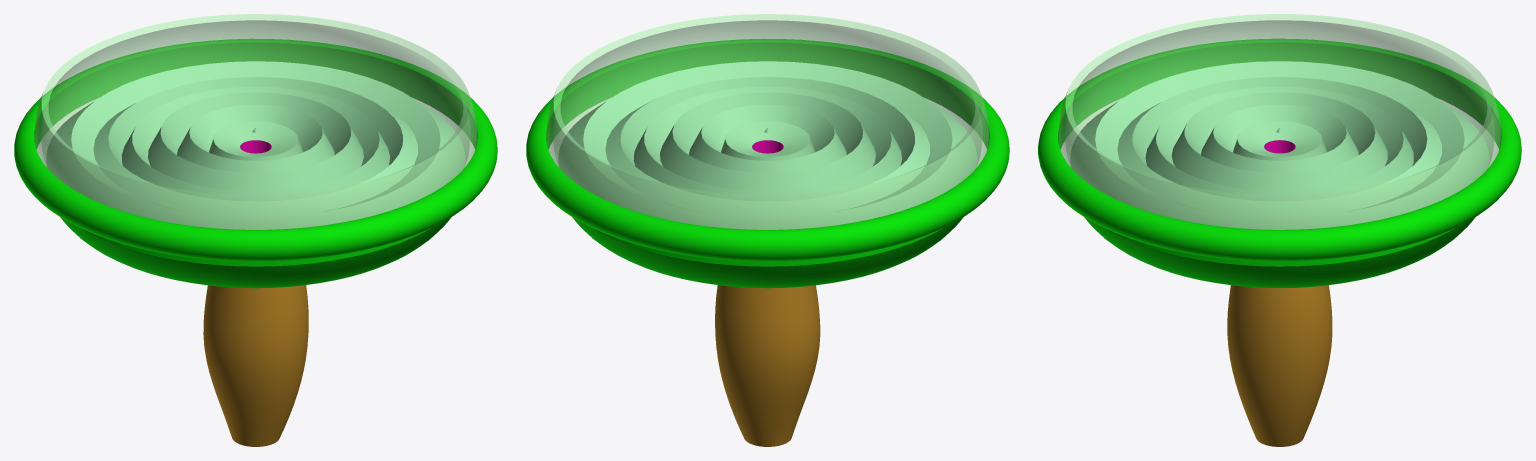
3 views of the same model, side by side, from view 1: azimuth 30°, elevation 25°; view 2: azimuth 150°, elevation 25°; view 3: azimuth 270°, elevation 25° (orthographic).
Parts seen in each view (by area): view 1: Part1; view 2: Part1; view 3: Part1.
Boxes of the visible parts, bbox=[...] form: Part1: bbox=[14, 14, 497, 446]; Part1: bbox=[526, 14, 1009, 446]; Part1: bbox=[1038, 14, 1521, 446].
Size of the model in its own units: 0.3305 by 0.2504 by 0.3304.
